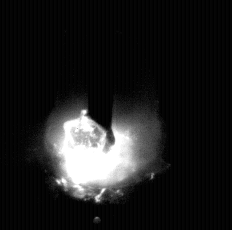arame: (88, 0, 116, 144)
poca: (46, 0, 159, 230)
